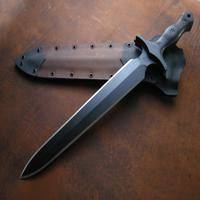knife: (17, 21, 182, 184)
